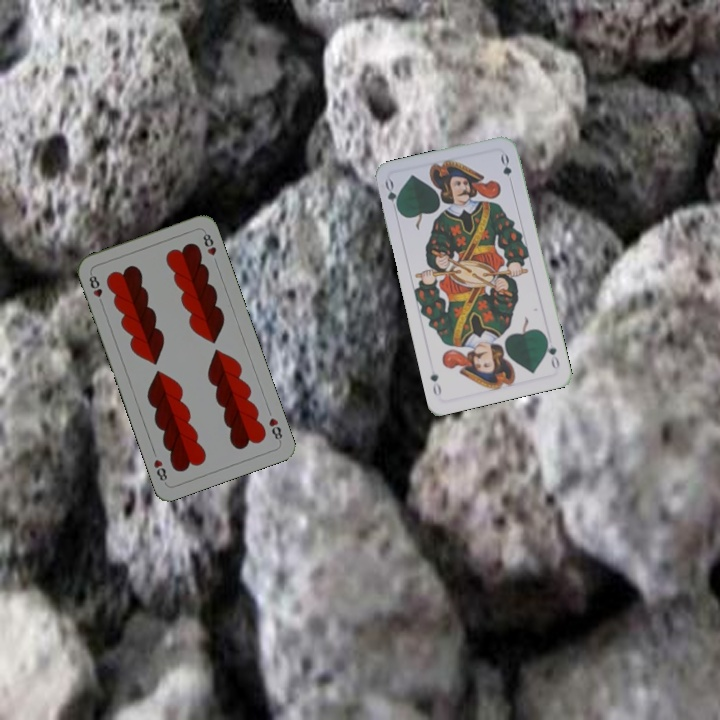GO: (381, 176, 403, 216), (541, 333, 562, 372)
H8: (85, 269, 106, 308), (265, 414, 285, 445)
